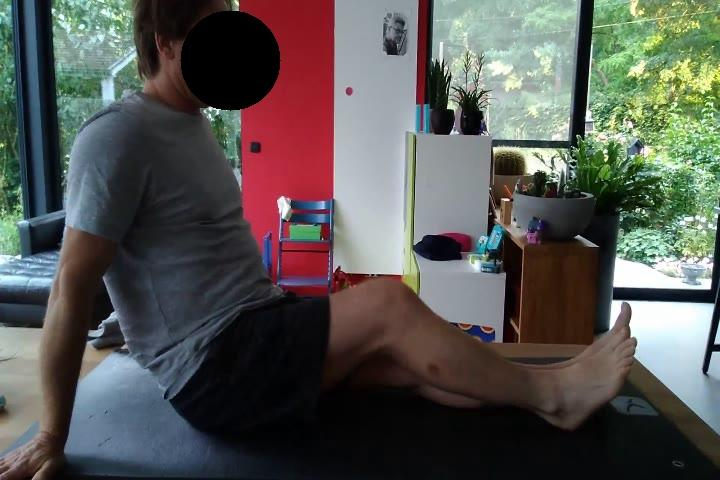lower_body: (171, 275, 641, 438)
